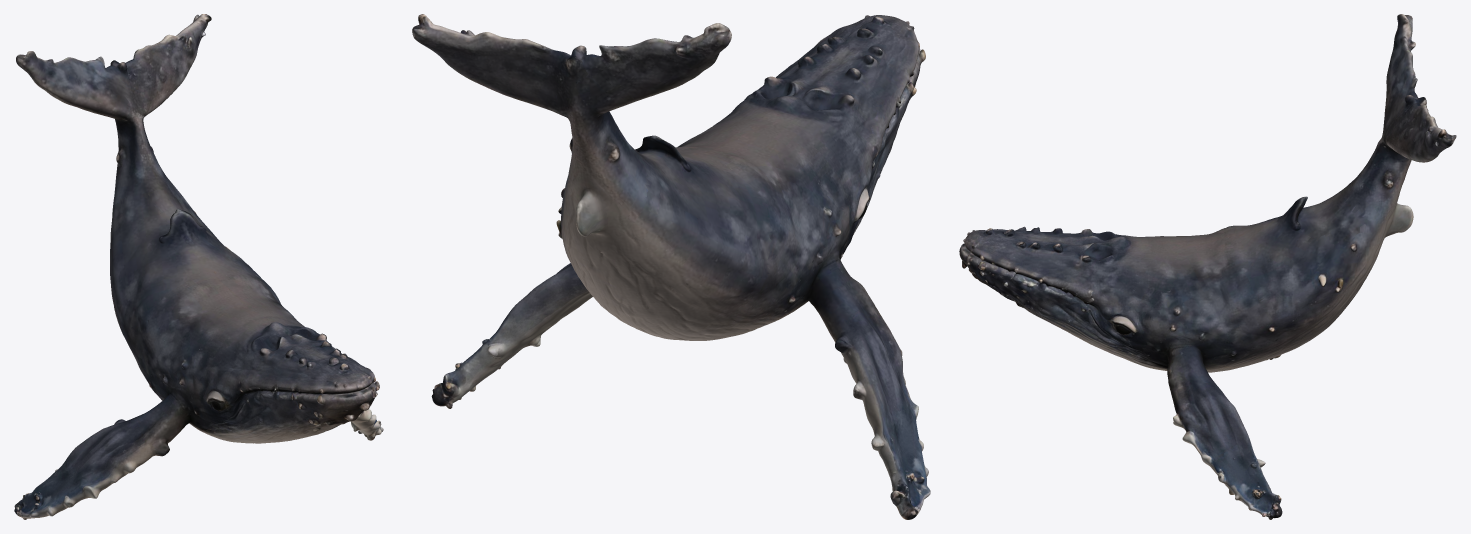
File: Whale.glb
The picture shows the model from 3 angles, left to right: view 1: azimuth 30°, elevation 25°; view 2: azimuth 150°, elevation 25°; view 3: azimuth 270°, elevation 25°; orthographic projection. The views are drawn at different scales.
Parts seen in each view (by area): view 1: tripo_node_65cc3c27-58ab-4024-ae9e-6195bc0aa39d; view 2: tripo_node_65cc3c27-58ab-4024-ae9e-6195bc0aa39d; view 3: tripo_node_65cc3c27-58ab-4024-ae9e-6195bc0aa39d.
Part boxes in pixels (x1,y1,x2,y2): tripo_node_65cc3c27-58ab-4024-ae9e-6195bc0aa39d: (14, 14, 383, 519); tripo_node_65cc3c27-58ab-4024-ae9e-6195bc0aa39d: (412, 14, 930, 519); tripo_node_65cc3c27-58ab-4024-ae9e-6195bc0aa39d: (959, 14, 1456, 519).
Size of the model in its own units: 0.7922 by 0.8427 by 0.9999.
Materials: 1 (1 with a texture image).
